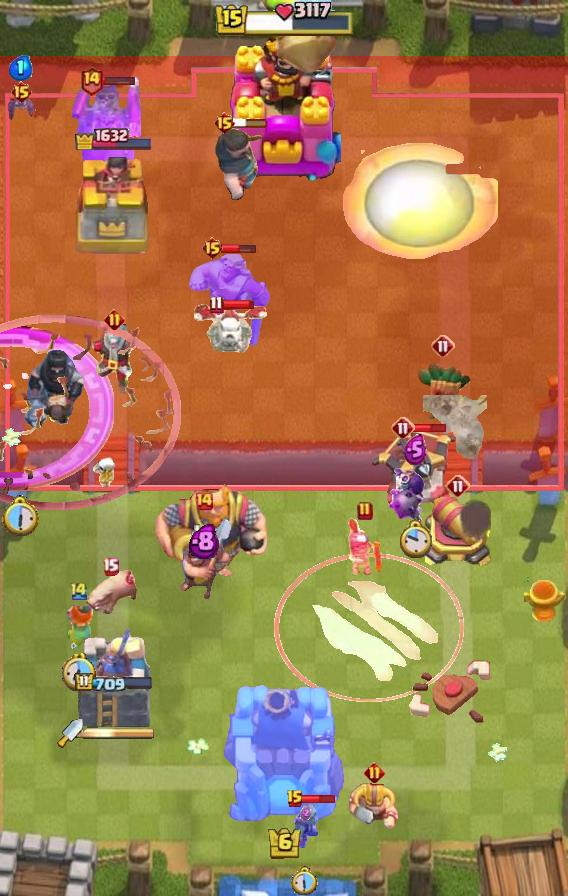bandit: (174, 516, 234, 604)
bar: (75, 623, 153, 731)
barbarian-barrel: (5, 95, 37, 123)
clock: (213, 0, 355, 40)
electro-spirit: (189, 523, 219, 559), (403, 434, 427, 465), (9, 55, 33, 81), (300, 806, 311, 820)
elixir: (0, 495, 39, 537), (398, 520, 432, 561), (62, 653, 96, 691), (291, 866, 319, 896)
emote: (233, 117, 269, 129), (412, 422, 447, 434), (302, 793, 337, 805), (221, 243, 257, 254), (100, 75, 135, 86), (221, 299, 255, 310)
fisherman: (423, 396, 487, 465)
giant: (81, 568, 139, 618)
giant-skeleton: (153, 479, 269, 579)
goblin-ball: (387, 468, 427, 526)
goblin-barrel: (414, 363, 472, 429)
goblin-giant: (348, 782, 400, 830)
goblin-hut: (185, 249, 271, 349)
heal-spirit: (92, 455, 120, 487)
hog-rider: (60, 600, 98, 652)
ice-wizard: (274, 553, 464, 703)
inferno-dragon: (21, 349, 85, 432)
king-tower: (221, 682, 347, 826), (227, 29, 341, 181)
king-tower-bar: (83, 726, 155, 740)
knight-evolution: (0, 326, 114, 490)
lava-pup: (371, 428, 459, 510)
mini-pekka: (189, 302, 271, 356)
mortar: (73, 322, 155, 394)
princess: (346, 518, 384, 580)
queen-tower: (71, 154, 157, 256)
royal-hog: (212, 125, 266, 203)
royal-recruit: (422, 497, 494, 571)
selected: (74, 126, 154, 151), (74, 672, 154, 694)
skeleton-barrel: (0, 313, 180, 511)
skeleton-king-bar: (67, 77, 141, 165)
text: (80, 65, 105, 96), (431, 334, 455, 358), (391, 416, 415, 440), (446, 474, 470, 498), (10, 80, 33, 104), (212, 111, 235, 135), (200, 236, 223, 260), (103, 309, 124, 331), (364, 761, 385, 783), (69, 579, 89, 601), (194, 491, 214, 511), (286, 789, 304, 809), (101, 556, 119, 575), (357, 501, 373, 521), (209, 295, 224, 314)
valkyrie: (342, 140, 498, 262)
x-bow: (249, 0, 343, 78)
zap: (289, 804, 321, 852)
